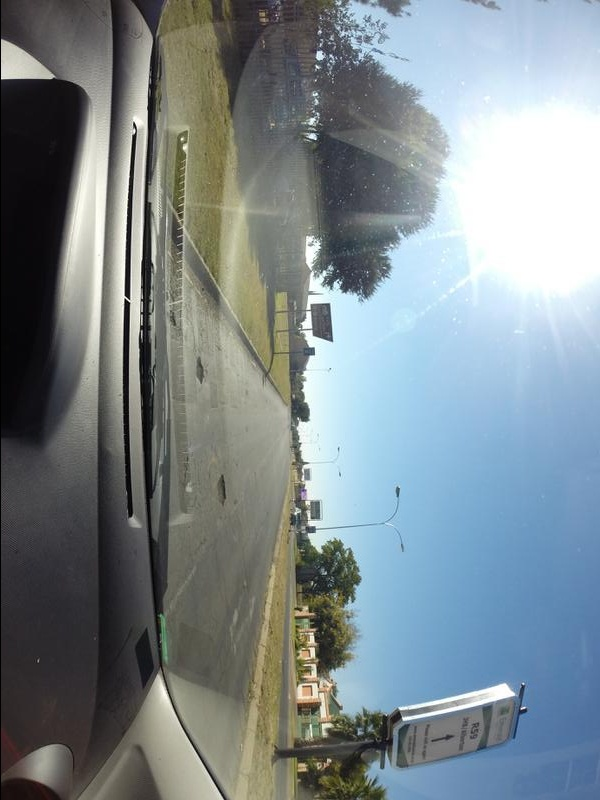pothole: (205, 469, 230, 526), (192, 350, 212, 395), (167, 303, 183, 339)
